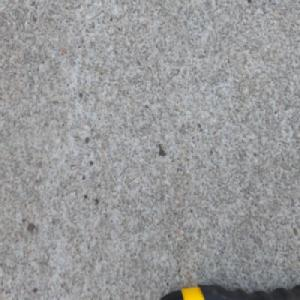Cutter: (156, 278, 300, 300)
